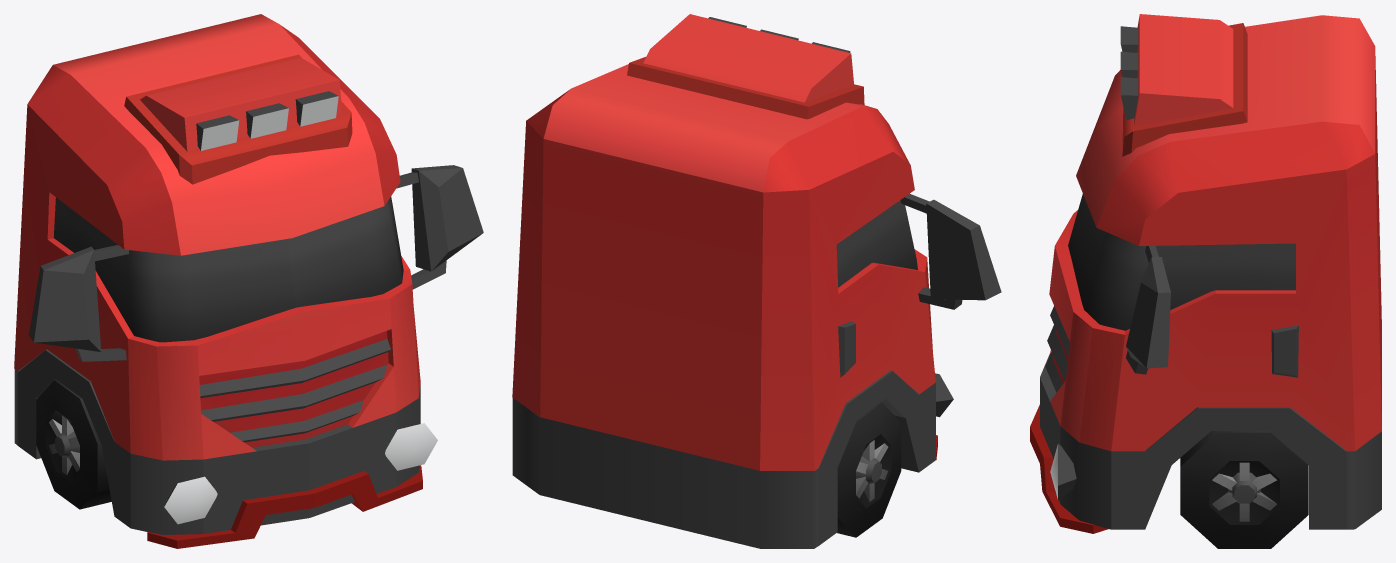
Rendered from head_D_2.fbx.
3 renders of one model, left to right at view 1: azimuth 30°, elevation 25°; view 2: azimuth 150°, elevation 25°; view 3: azimuth 270°, elevation 25°, orthographic. The views are drawn at different scales.
Visible parts, largest first — view 1: head_D_2; view 2: head_D_2; view 3: head_D_2.
Boxes of the visible parts, x1,y1,x2,y2 form: head_D_2: [14, 14, 483, 548]; head_D_2: [512, 14, 1001, 548]; head_D_2: [1030, 14, 1381, 548].
Size of the model in its own units: 1874 by 1603 by 1213.
